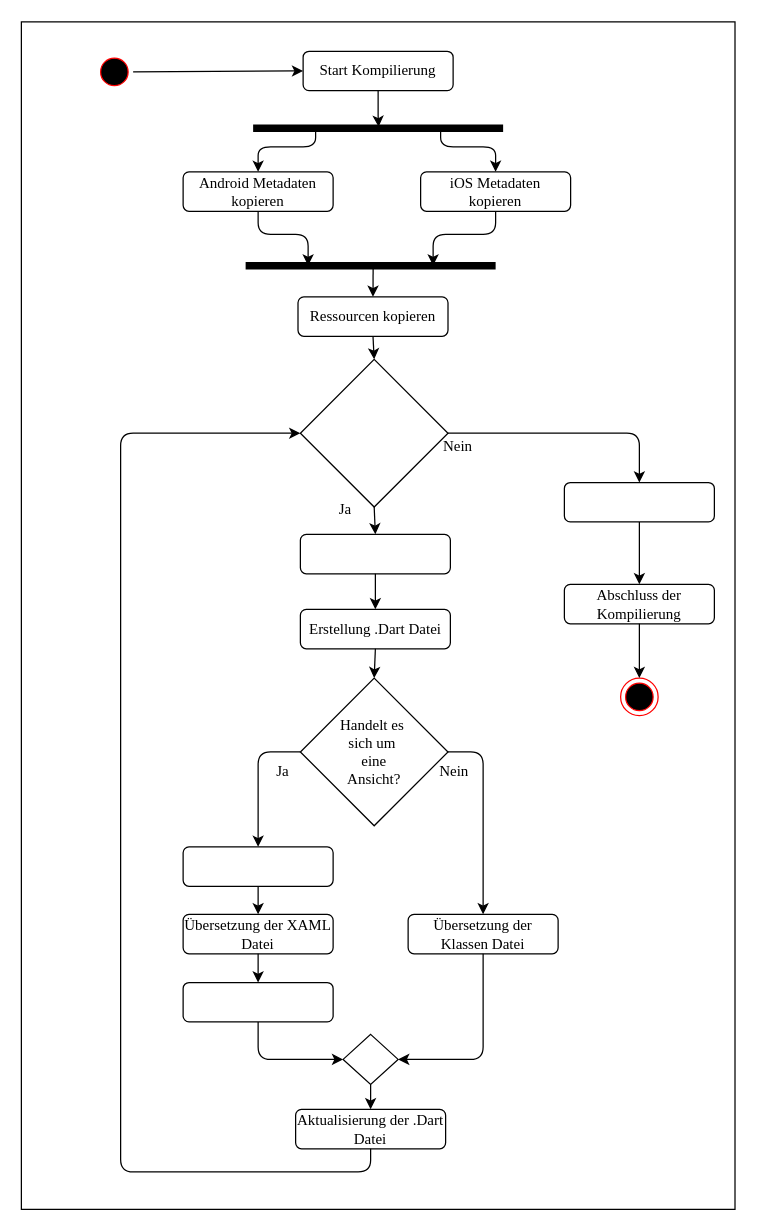
Image size: 758x1231. Some labels were removed from this diagram. Here are the shapes that lost their labels. From the top down, the centre of each, then its label:
At pixel 373 432: "Existieren nicht übersetzte Dateien?".
At pixel 638 501: "Synthetisiserung der der Dart Dateien".
At pixel 374 553: "Auswahl der Datei".
At pixel 257 866: "Laden .XAML Datei".
At pixel 257 1001: "Übersetzung der XAML.CS Datei".
